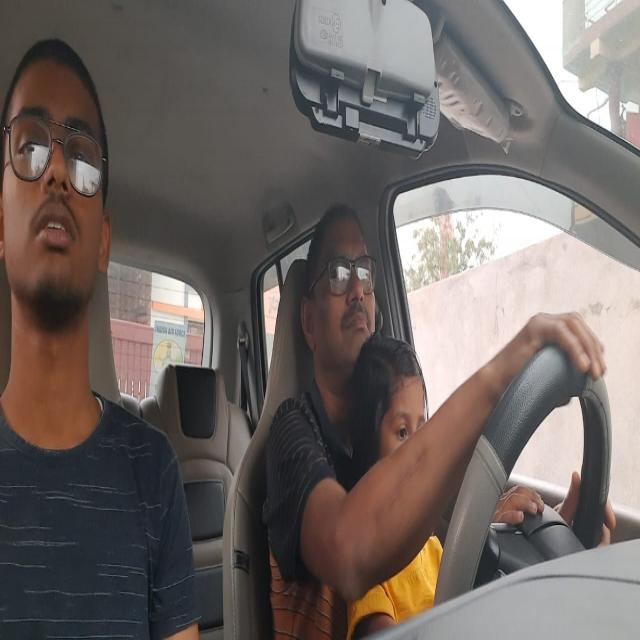person: (4, 32, 115, 346), (301, 201, 375, 369)
